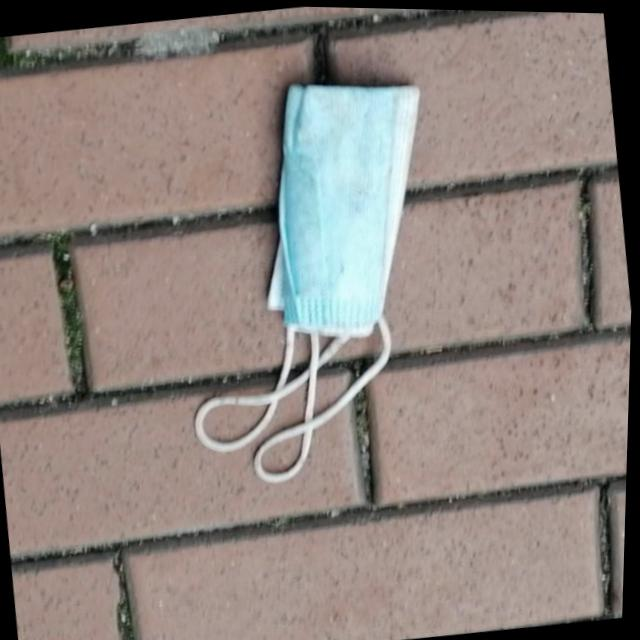Mask: (152, 59, 470, 498)
